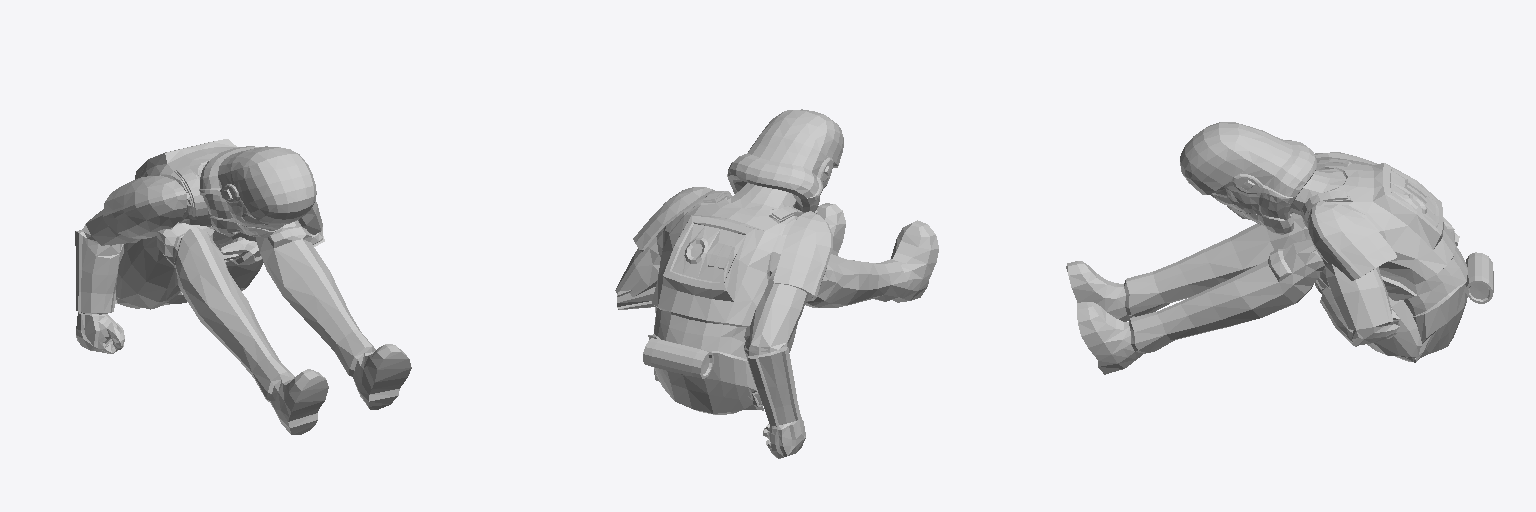
The model's file is Move_000268.obj.
3 views of the same model, side by side, from view 1: azimuth 30°, elevation 25°; view 2: azimuth 150°, elevation 25°; view 3: azimuth 270°, elevation 25° (orthographic).
Size of the model in its own units: 1.37 by 1.54 by 2.4.